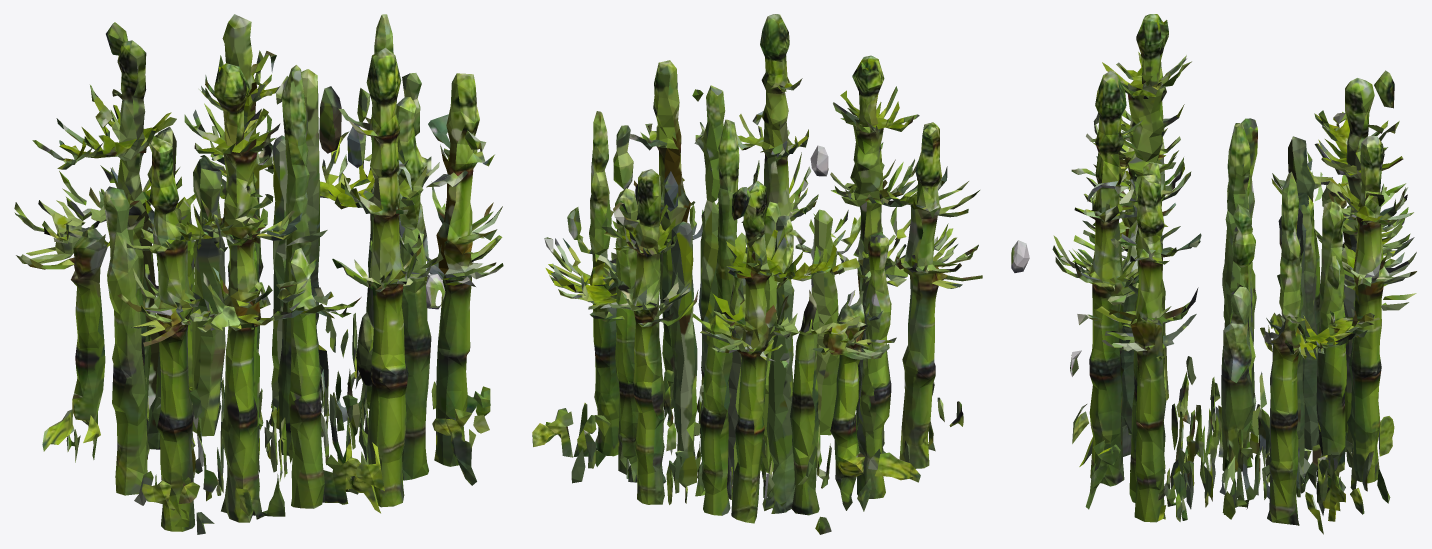
File: dino_horsetail_1117.glb
3 views of the same model, side by side, from view 1: azimuth 30°, elevation 25°; view 2: azimuth 150°, elevation 25°; view 3: azimuth 270°, elevation 25° (orthographic). The views are drawn at different scales.
Parts seen in each view (by area): view 1: tmpw2aklcep.ply; view 2: tmpw2aklcep.ply; view 3: tmpw2aklcep.ply.
Part boxes in pixels (x1=…): tmpw2aklcep.ply: x1=14, y1=14, x2=503, y2=534; tmpw2aklcep.ply: x1=532, y1=14, x2=982, y2=534; tmpw2aklcep.ply: x1=1011, y1=14, x2=1416, y2=534.
Bounding box in the file's own units: 1.88 × 2 × 1.8.
Materials: 1 (1 with a texture image).
